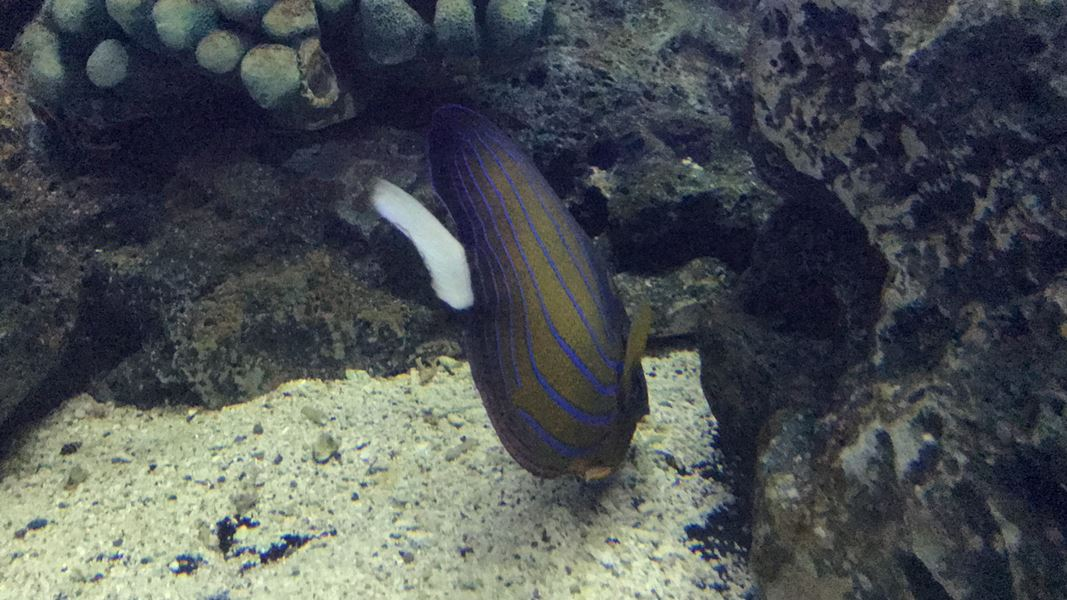Blue ring angelfish: (335, 91, 687, 524)
